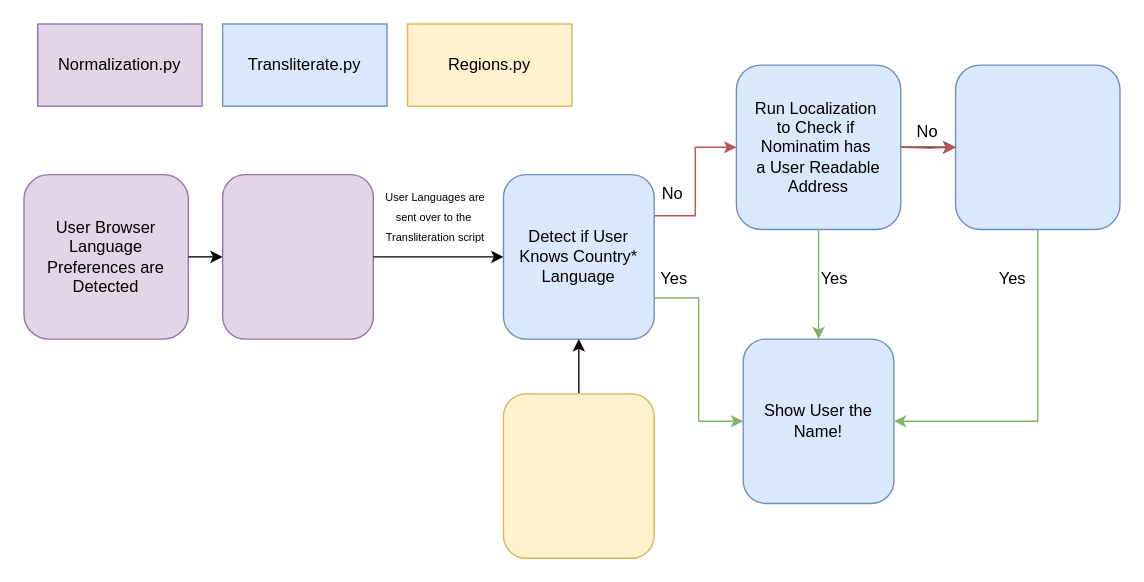
Some shapes in this 1144 by 582 pixel diagram are drawn without their labels. Each missing label, with the centre of its shape:
"*Regionalization Occurs to Check if User Knows Dialect" belongs at [578,475].
"Language Normalization Occurs" belongs at [297,256].
"Run Transliteration to Transliterate into a User Readable Address" belongs at [1037,146].
